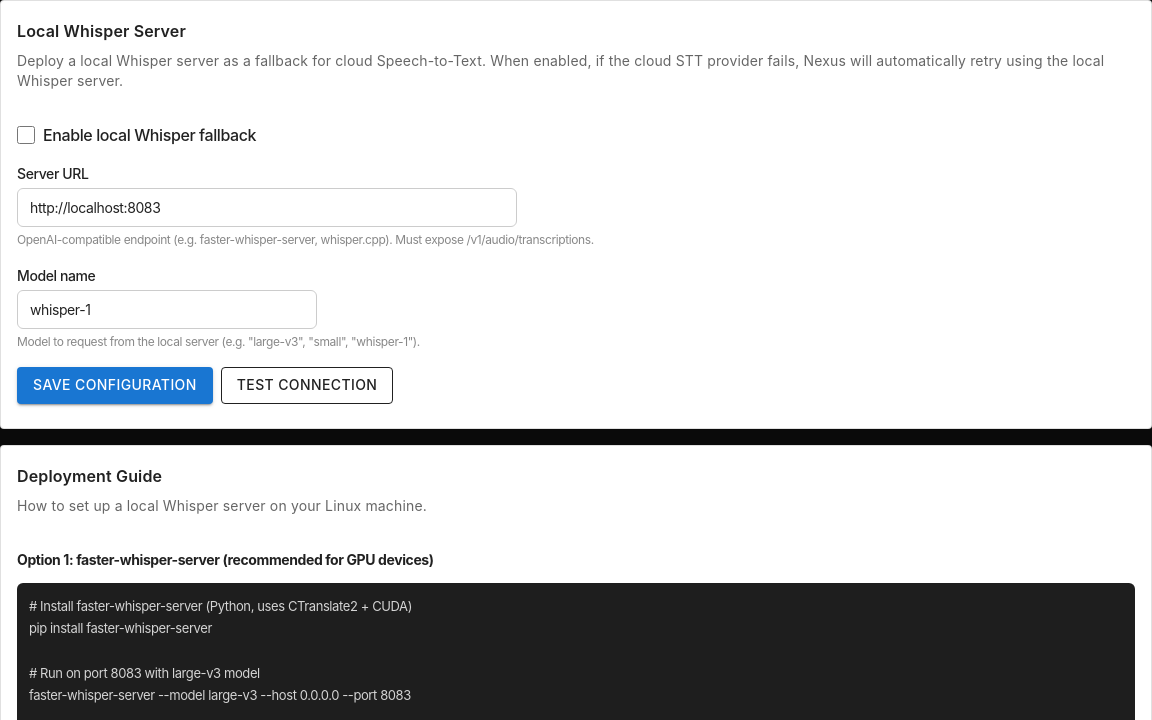
Scenario: WhisperConfig — interactions › shows success message after saving
Expected: the heading "Local Whisper Server" is shown, [17,21,186,41]
Click the button "Save Configuration": click(115, 385) [17,367,213,404]
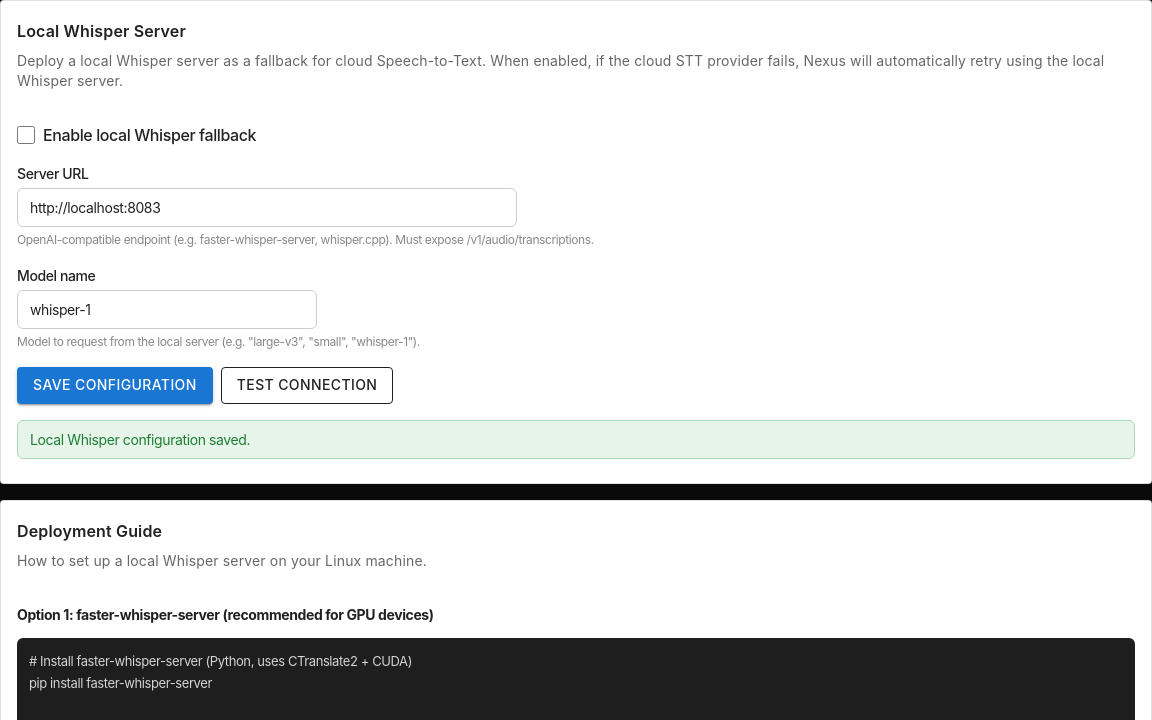
Now the text "Local Whisper configuration saved." is shown, box [17,420,1135,458]
